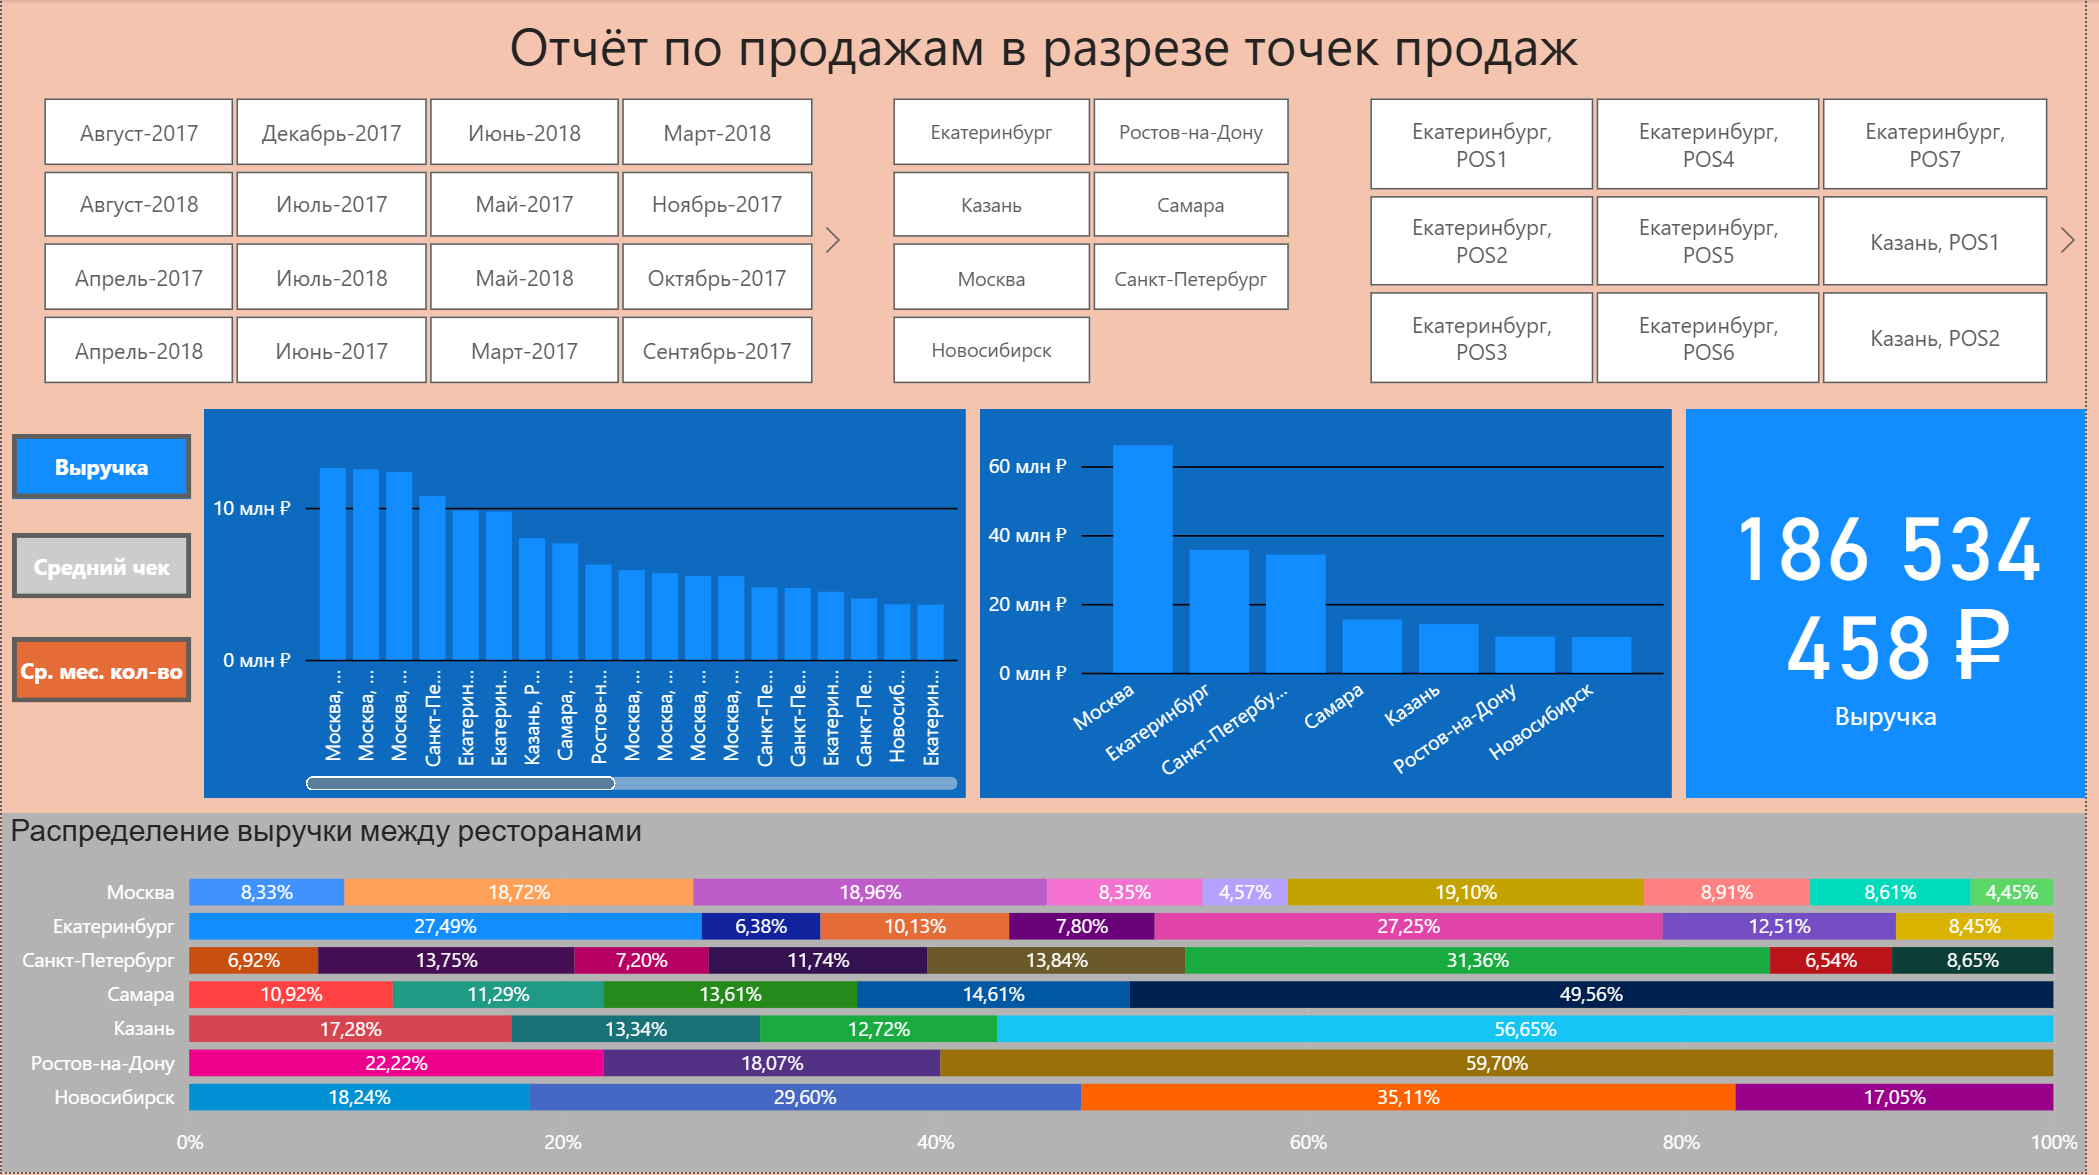

The dashboard page shown, as its layout file describes it:
{"tool":"powerbi","page":{"name":"Отчёт по продажам в разрезе точек продаж","canvas":[1280,720],"ordinal":1},"visuals":[{"type":"slicer","fields":{"Values":["Календарь.Месяц, год"]},"box":[0,53.4,521.6,188.6],"z":0},{"type":"textbox","box":[0,0,1280.3,53.4],"z":1000},{"type":"slicer","fields":{"Values":["Рестораны.Город"]},"box":[521.6,53.4,293,188.6],"z":2000},{"type":"slicer","fields":{"Values":["Рестораны.Название ресторана"]},"box":[814.6,53.4,465.7,188.6],"z":3000},{"type":"clusteredColumnChart","fields":{"Category":["Рестораны.Город"],"Y":["Меры.Выручка"]},"box":[600.8,251.4,425,239],"z":4000},{"type":"clusteredColumnChart","fields":{"Category":["Рестораны.Название ресторана"],"Y":["Меры.Выручка"]},"box":[124.2,251.4,467.8,239],"z":5000},{"type":"hundredPercentStackedBarChart","title":"Распределение выручки между ресторанами","fields":{"Category":["Рестораны.Город"],"Y":["Меры.Выручка"],"Series":["Рестораны.Название ресторана"]},"box":[0,499.5,1280.3,220.5],"z":6000},{"type":"card","fields":{"Values":["Меры.Выручка"]},"box":[1034.5,251.4,245.5,239],"z":7000},{"type":"actionButton","box":[6,266.3,110,39.6],"z":8000},{"type":"actionButton","box":[6,327.4,110,40.3],"z":9000},{"type":"actionButton","box":[6,391.1,110,40.3],"z":10000}]}

Visuals, with their boxes in screenshot pixels (x1, y1, x2, y2), scaled from the page's 1280x720 canvas onto the 2099x1175 screenshot:
slicer - Календарь.Месяц, год: crop(0, 87, 855, 395)
textbox: crop(0, 0, 2098, 87)
slicer - Рестораны.Город: crop(855, 87, 1336, 395)
slicer - Рестораны.Название ресторана: crop(1336, 87, 2098, 395)
clusteredColumnChart - Рестораны.Город x Меры.Выручка: crop(985, 410, 1682, 800)
clusteredColumnChart - Рестораны.Название ресторана x Меры.Выручка: crop(204, 410, 971, 800)
"Распределение выручки между ресторанами" hundredPercentStackedBarChart: crop(0, 815, 2098, 1174)
card - Меры.Выручка: crop(1696, 410, 2098, 800)
actionButton: crop(10, 435, 190, 499)
actionButton: crop(10, 534, 190, 600)
actionButton: crop(10, 638, 190, 704)
